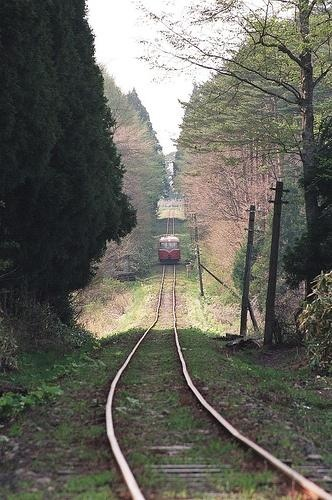train: (157, 234, 182, 266)
